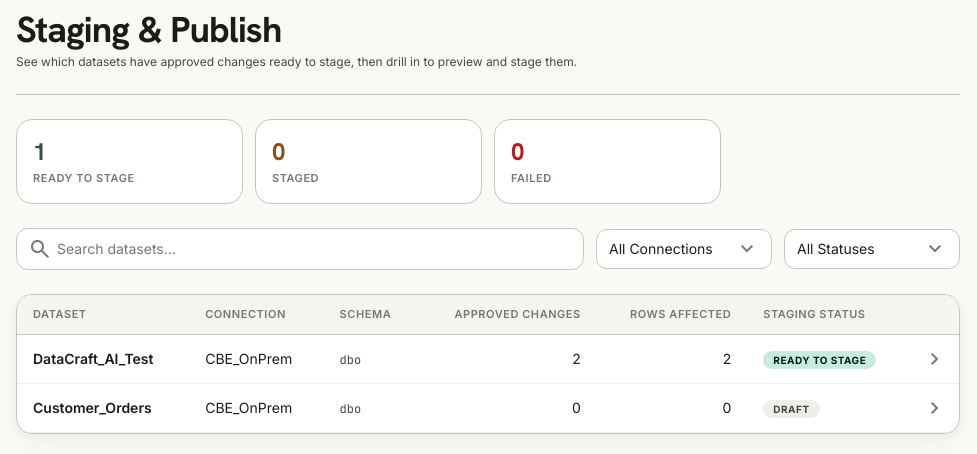
StagingMasterView › filters by search text across dataset/connection/schema
Type "Customer" into the field with placeholder "Search datasets…" at (300, 248), box [16,228,584,270]
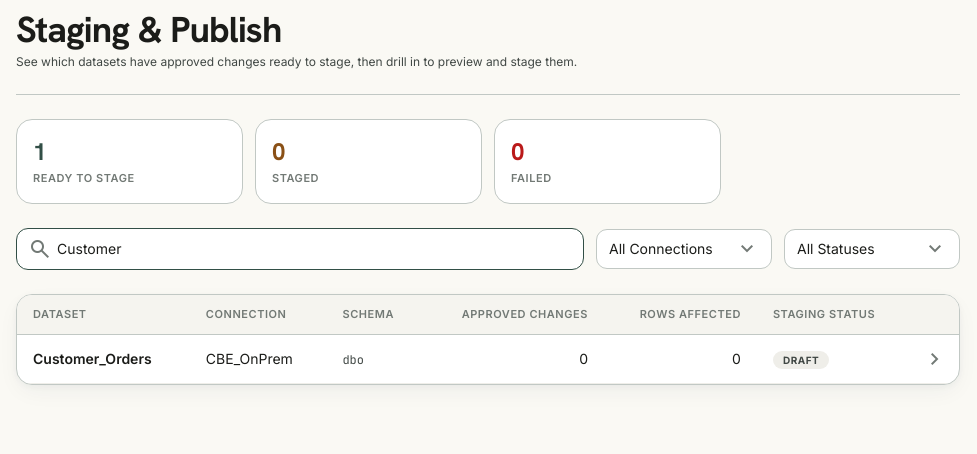
Expected: the text "Customer_Orders" is shown, [33,350,152,367]
Result: the button "DataCraft_AI_Test" is gone
